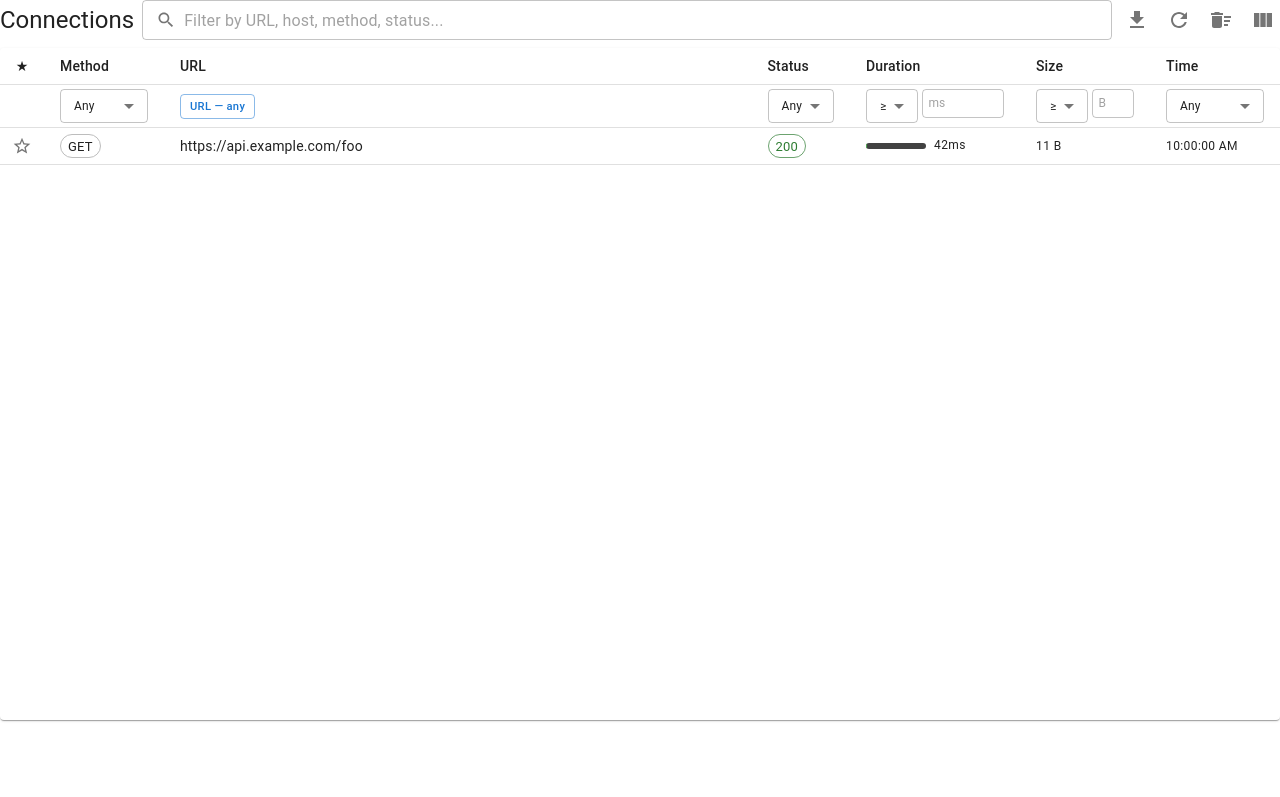
Test: ConnectionsPage — body preview › renders a binary placeholder for non-previewable mime types
Click the text "https://api.example.com/foo": (458, 147) [164,128,752,165]
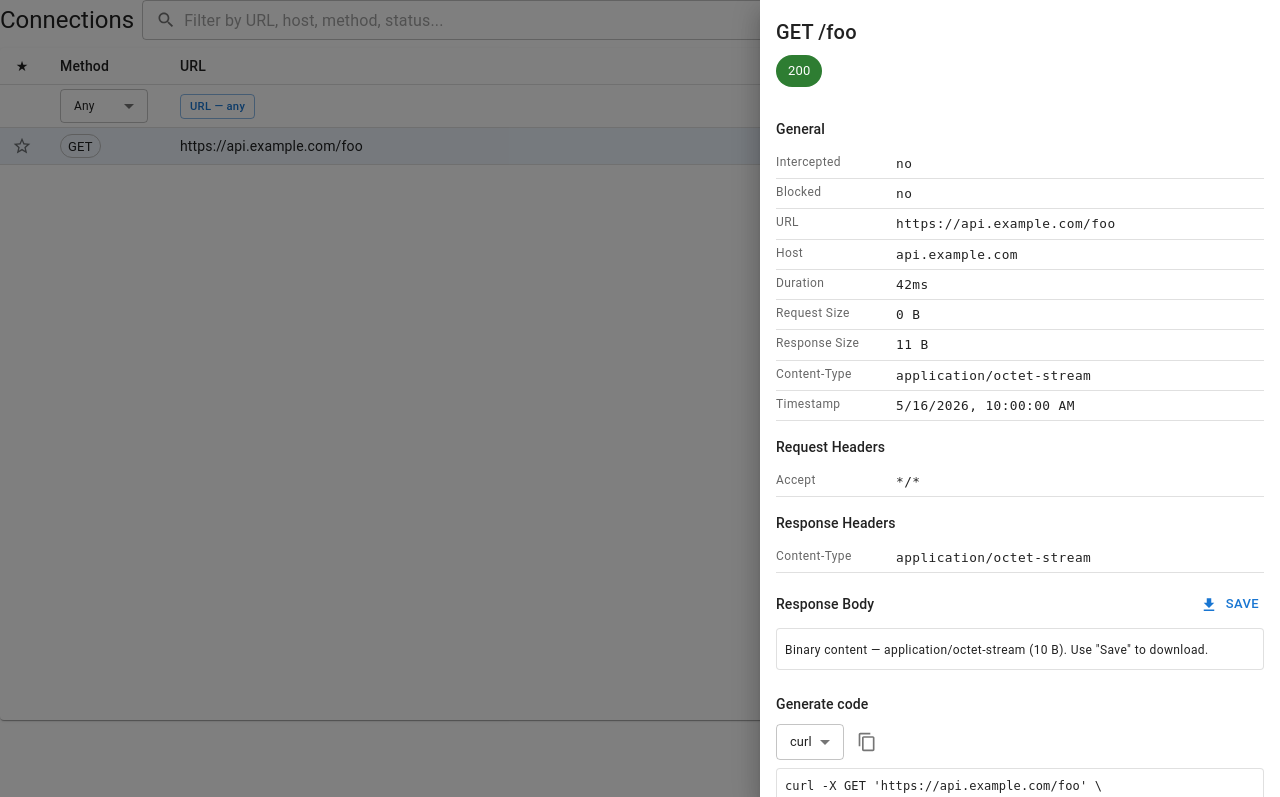
Expected: the text with test id "body-preview-binary-placeholder" shows "Binary content", [785,643,884,657]
Expected: the text with test id "body-preview-binary-placeholder" shows "application/octet-stream", [884,643,1026,657]
